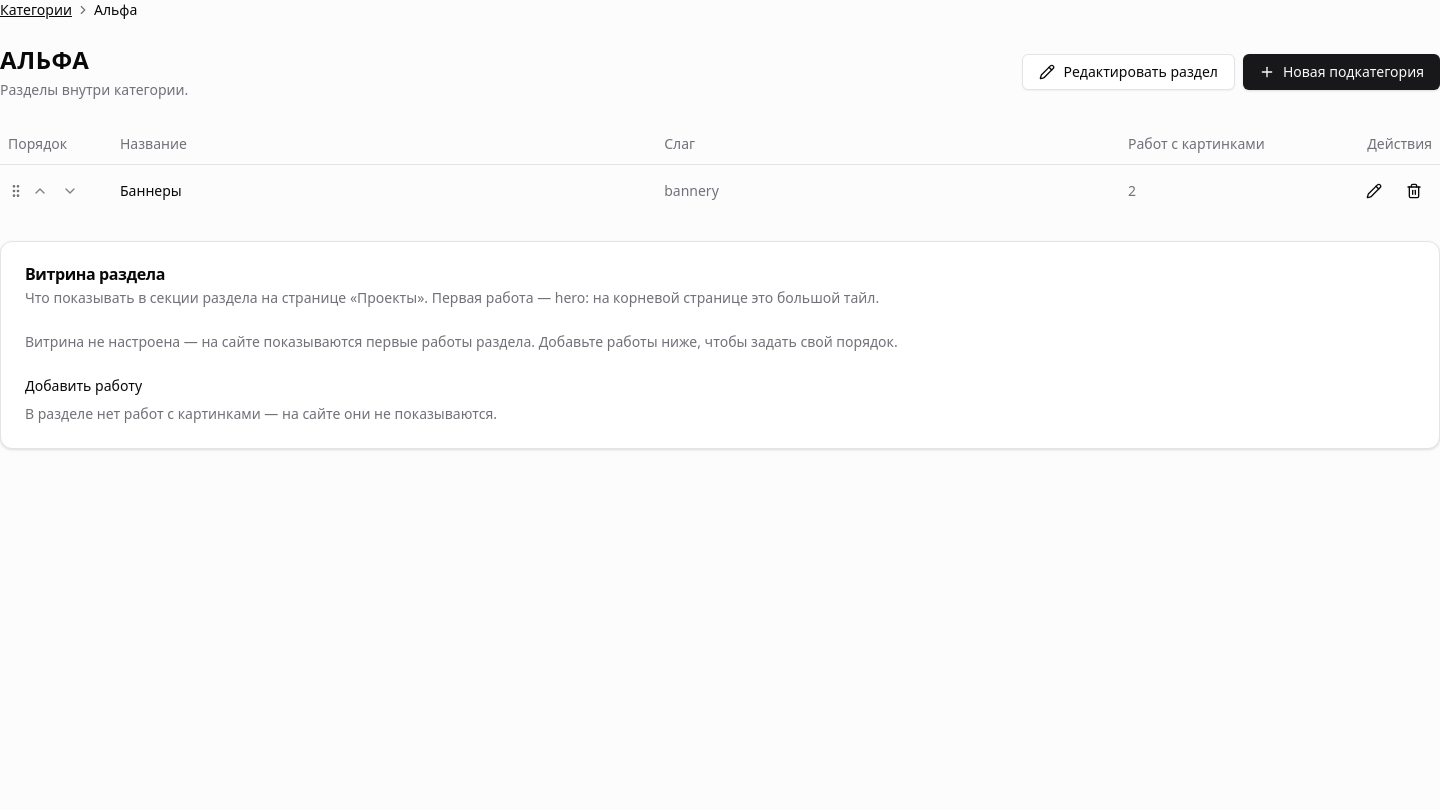
Scenario: SubcategoriesPage › форма подкатегории НЕ получила полей категории
The width and height of the screenshot is (1440, 810).
Expected: the link "Баннеры" is shown, [120, 180, 182, 200]
Click the button "Новая подкатегория" at (1341, 72), box [1243, 54, 1439, 90]
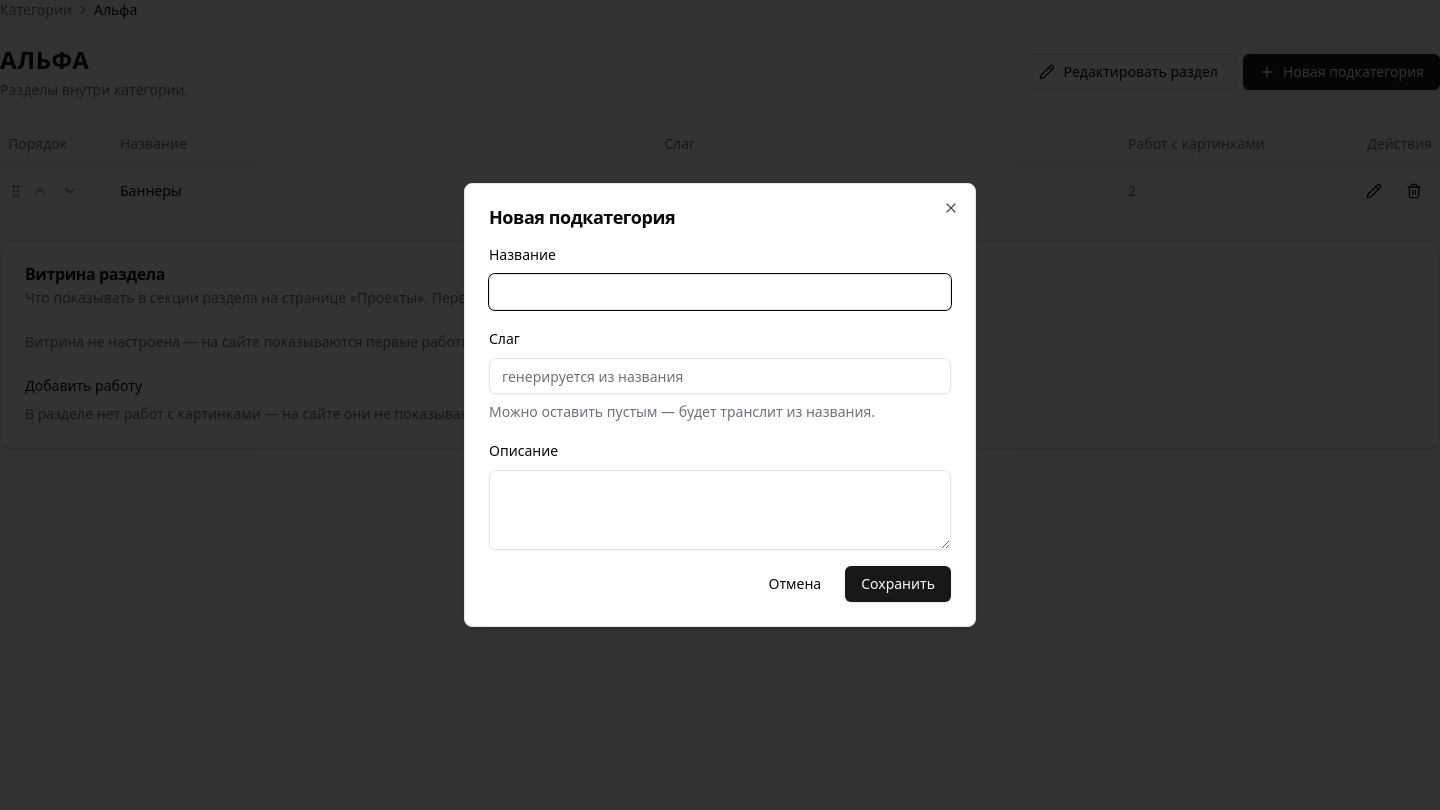
Now the field labelled "Название" is shown, box [489, 274, 951, 310]
